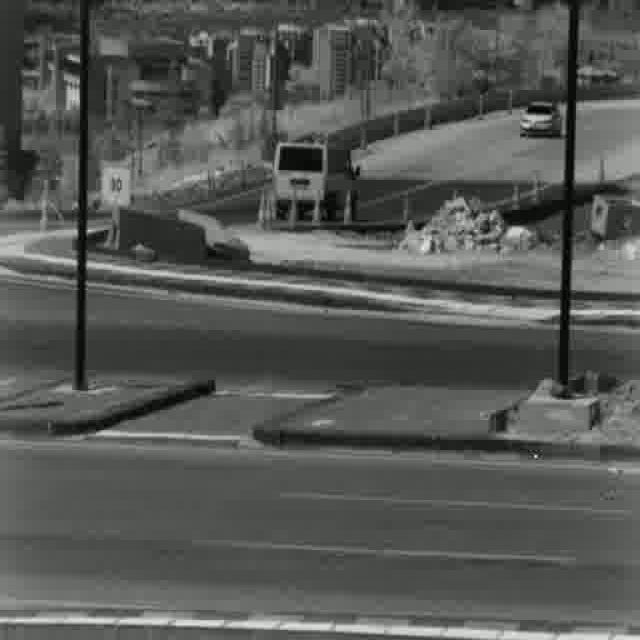Car: (272, 142, 358, 218), (520, 100, 562, 139)
